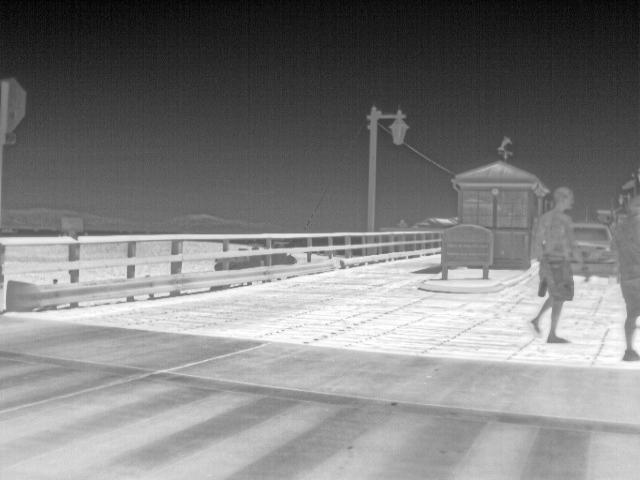car: (568, 221, 617, 276)
person: (528, 185, 574, 344), (610, 195, 637, 364)
